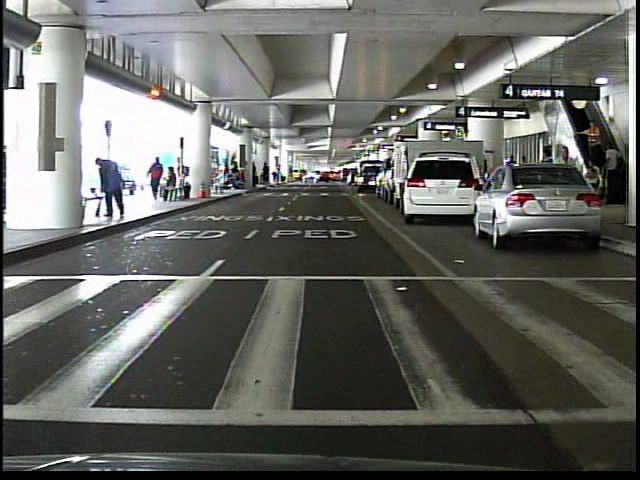person: (95, 152, 130, 222), (579, 118, 606, 168), (604, 140, 623, 193), (273, 162, 286, 189)
